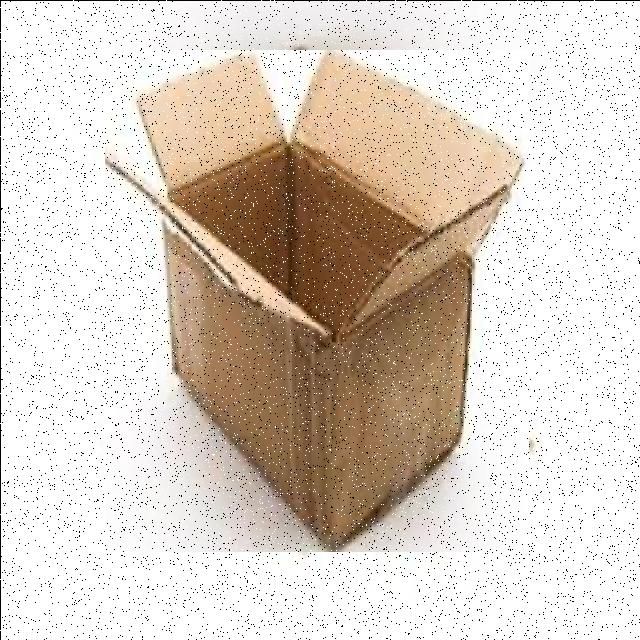defect: (104, 49, 528, 551)
